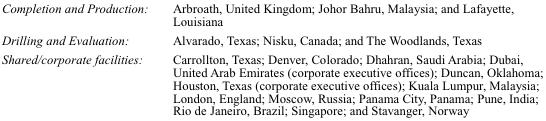table: (0, 1, 542, 117)
table column: (159, 1, 542, 117), (0, 1, 159, 117)
table row: (0, 49, 542, 117), (0, 1, 542, 30), (0, 30, 542, 49)
